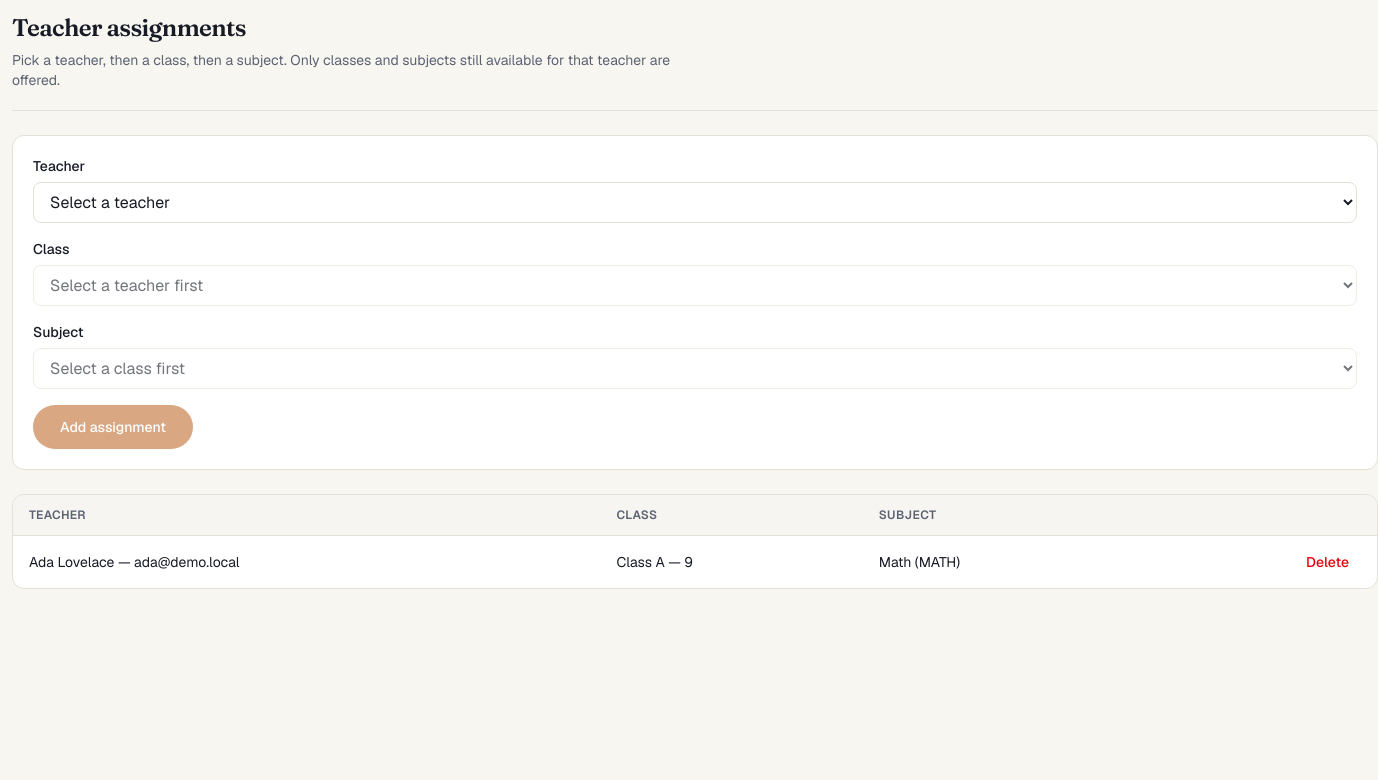
AdminTeacherAssignmentsPage › shows a message when the teacher is saturated across every class
The image size is (1378, 780).
Select "Ada Lovelace — ada@demo.local" in the dropdown labelled "Teacher" at (695, 202), box [33, 182, 1357, 223]
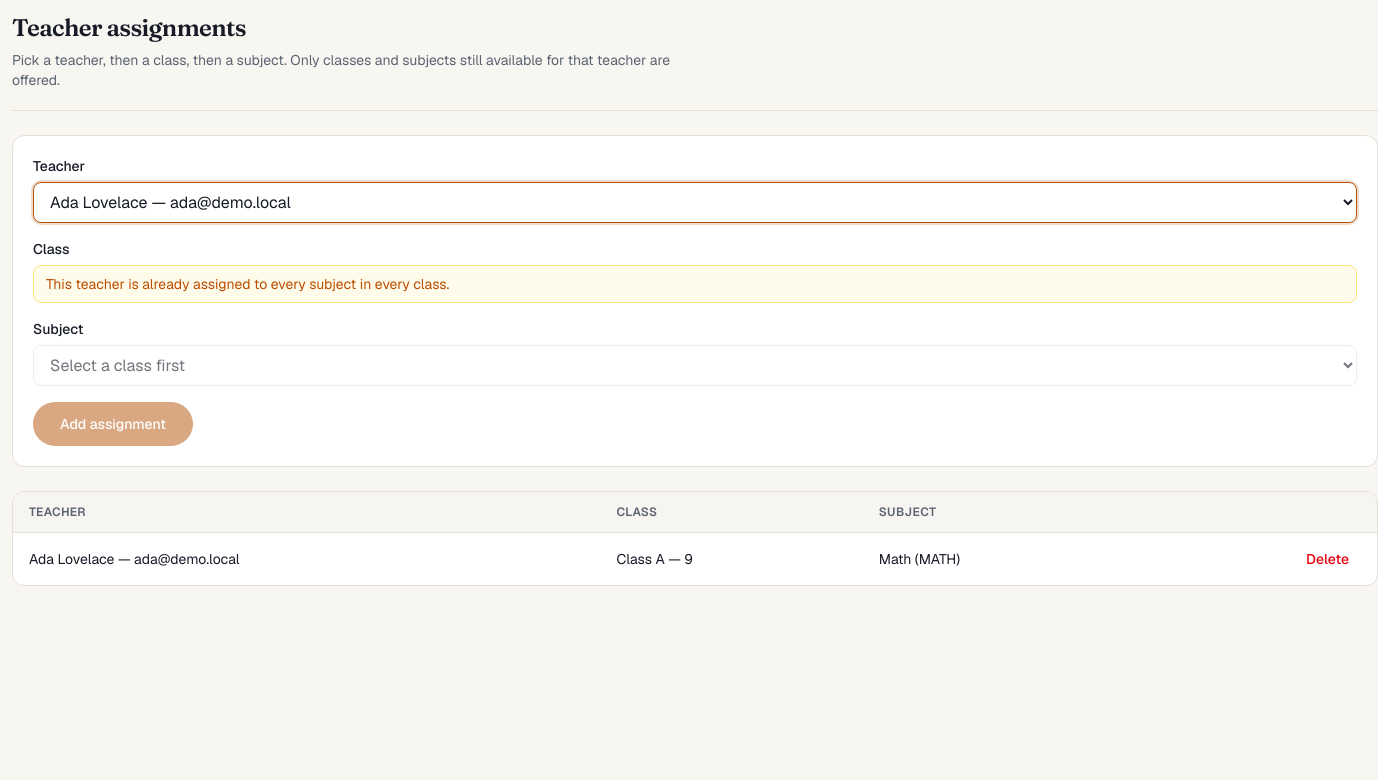
Check: the button "Add assignment" is disabled, box [33, 402, 193, 446]
Check: the text "This teacher is already assigned to every subject in every class." is shown, box [33, 265, 1357, 303]
